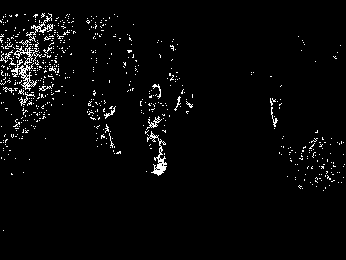person: (137, 82, 171, 175), (86, 89, 122, 155)
